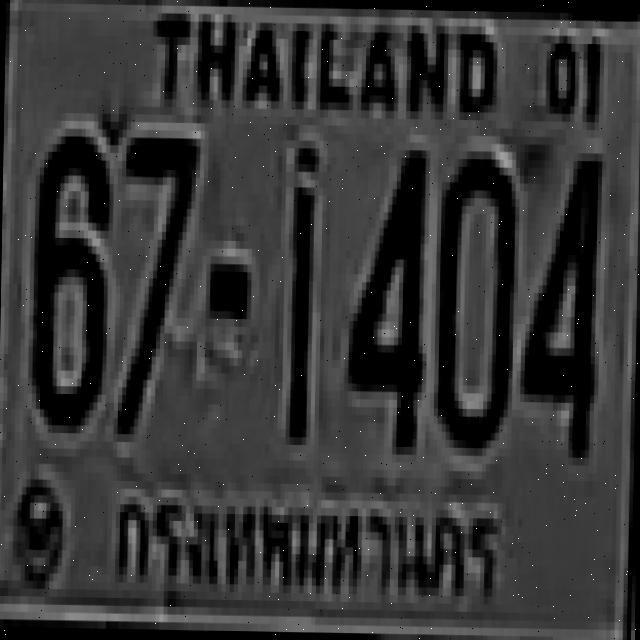0: (433, 146, 512, 444)
1: (285, 179, 310, 437)
4: (344, 140, 424, 447), (519, 143, 598, 450)
6: (27, 128, 106, 418)
7: (113, 129, 196, 427)
Bangkok: (102, 460, 516, 632)
